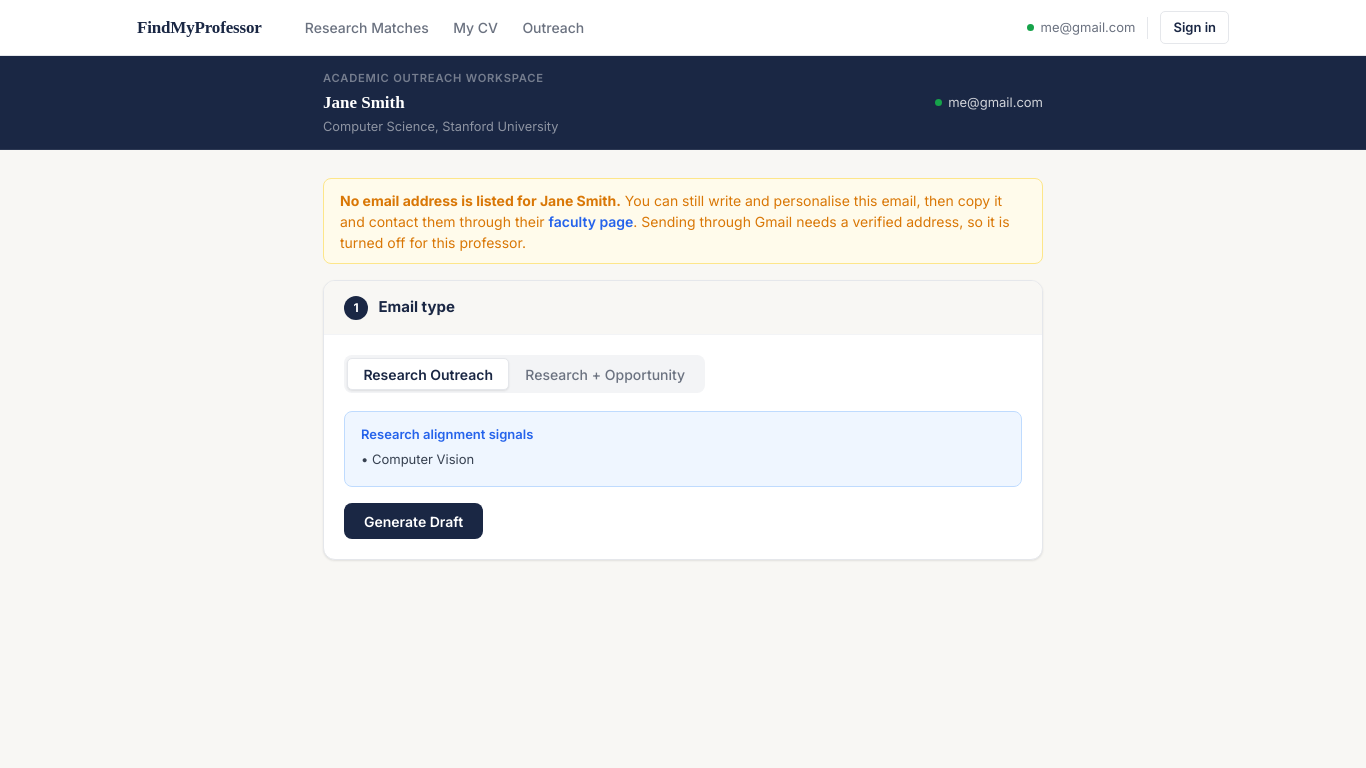
Test case: Email compose page › tells the student up front when the professor has no listed email, and offers copy instead of send
The width and height of the screenshot is (1366, 768).
Check: the text "No email address is listed for Jane Smith." is shown, box [340,192,621,209]
Check: the text "Jane Smith" is shown, box [323,93,405,112]
What coordinates should you click on to do the following:
click the button "Generate Draft"
I would click on:
 (414, 521)
Its box is [344,503,483,539].
(page scrolled)
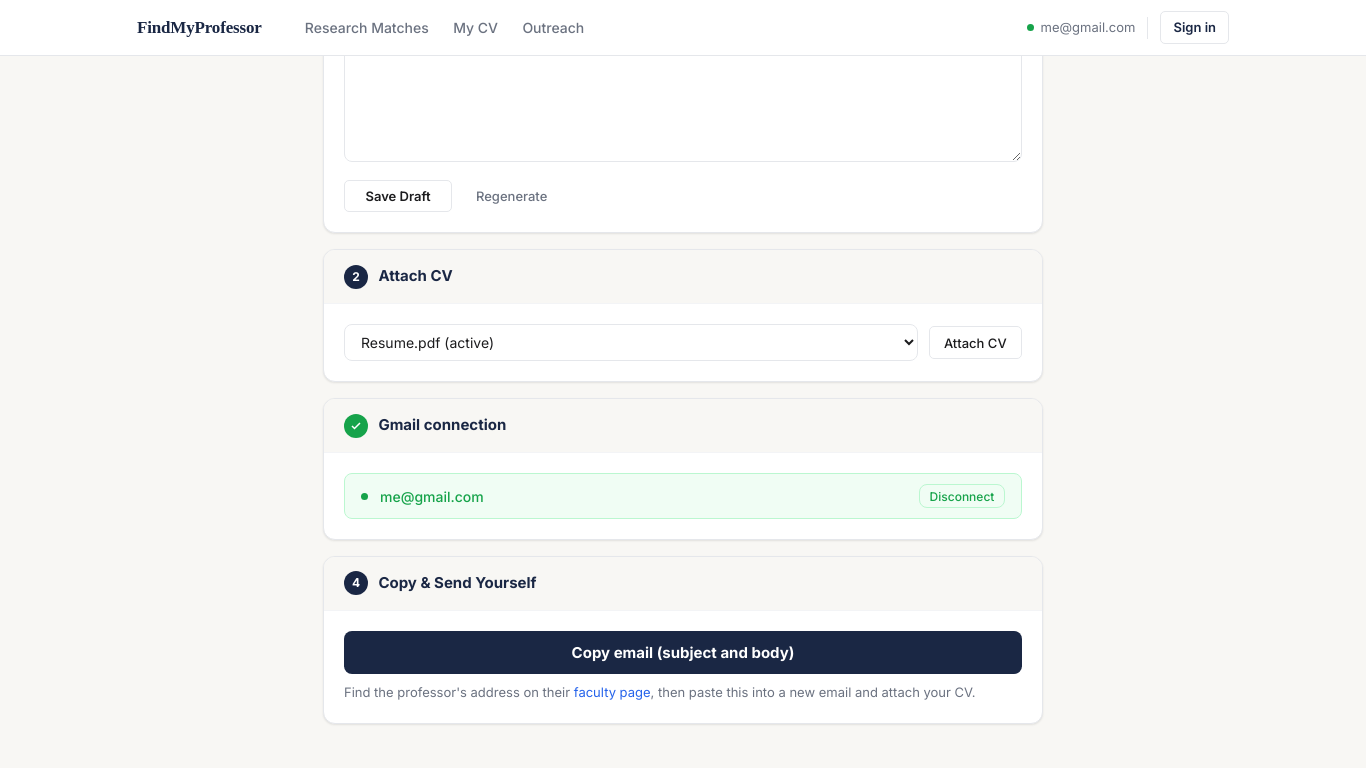
What coordinates should you click on to do the following:
click the button "Copy email (subject and body)"
I would click on:
 (683, 652)
Its box is [344,631,1022,674].
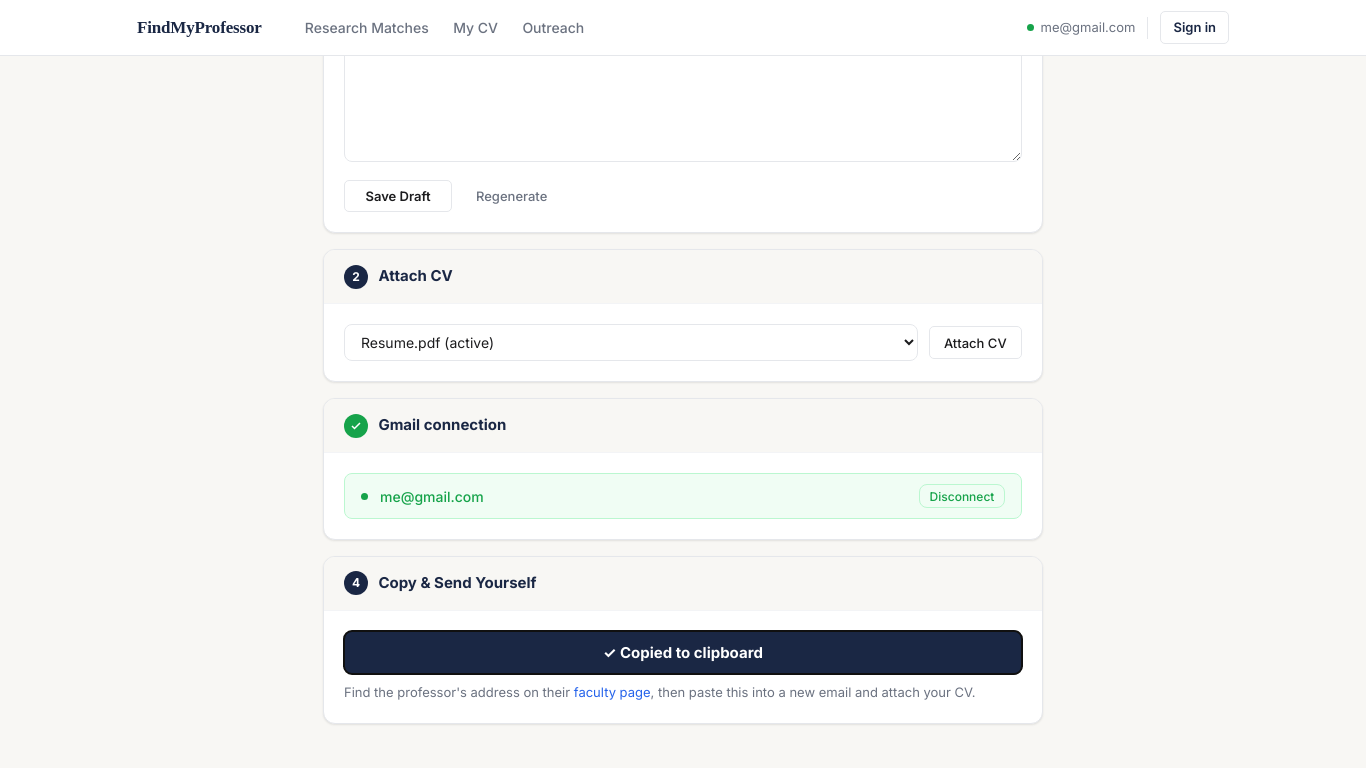
Check: the button "✓ Copied to clipboard" is shown, box [344,631,1022,674]
